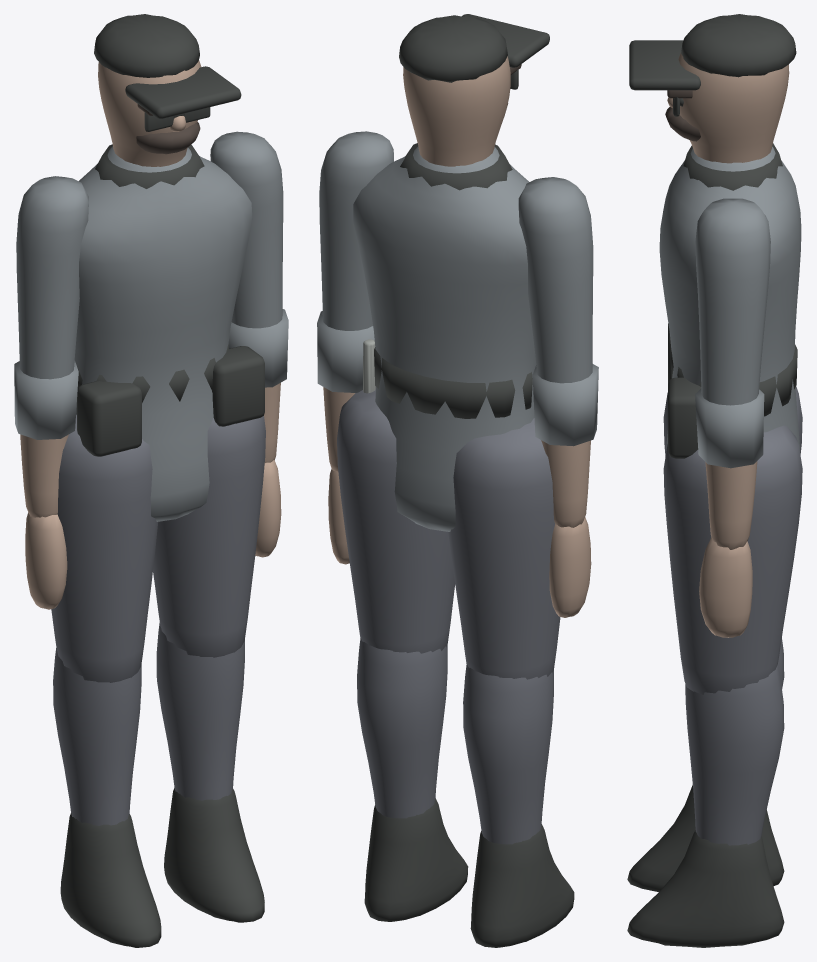
Rendered from resident_still_f_v5.glb.
3 views of the same model, side by side, from view 1: azimuth 30°, elevation 25°; view 2: azimuth 150°, elevation 25°; view 3: azimuth 270°, elevation 25° (orthographic). The views are drawn at different scales.
Parts seen in each view (by area): view 1: HabResidentStill; view 2: HabResidentStill; view 3: HabResidentStill.
Part boxes in pixels (<box>): HabResidentStill: <box>14,14,288,947</box>; HabResidentStill: <box>317,14,598,947</box>; HabResidentStill: <box>627,14,802,947</box>.
Bounding box in the file's own units: 0.5858 × 1.83 × 0.3281.
